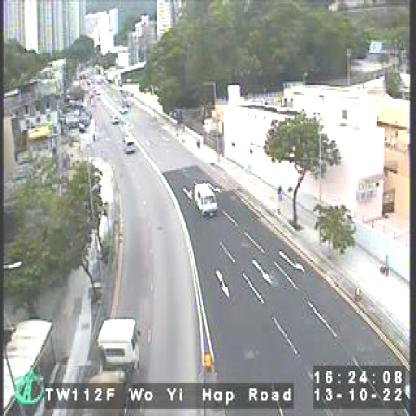Car: (192, 181, 218, 217), (123, 134, 138, 154), (110, 113, 122, 126)
Truck: (84, 316, 140, 382)
